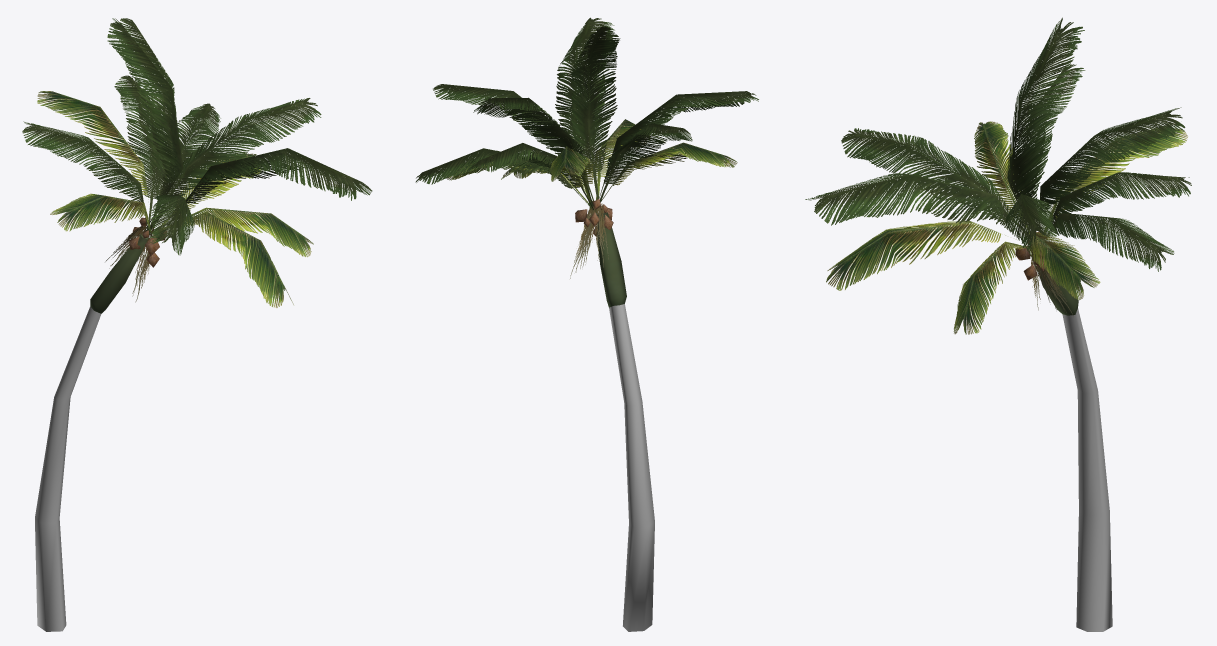
File: kiV4_2s_LOD1.fbx
The picture shows the model from 3 angles, left to right: view 1: azimuth 30°, elevation 25°; view 2: azimuth 150°, elevation 25°; view 3: azimuth 270°, elevation 25°; orthographic projection. The views are drawn at different scales.
Visible parts, largest first — view 1: kiV4_LOD1; view 2: kiV4_LOD1; view 3: kiV4_LOD1.
Boxes of the visible parts, x1=… form: kiV4_LOD1: x1=22, y1=18, x2=372, y2=631; kiV4_LOD1: x1=415, y1=17, x2=758, y2=631; kiV4_LOD1: x1=805, y1=17, x2=1191, y2=631.
Size of the model in its own units: 2292 by 4497 by 2609.
